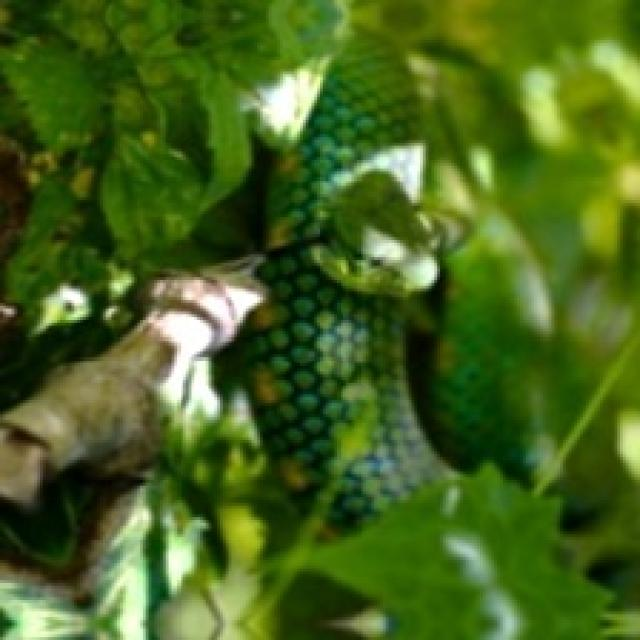philippine pitviper: (217, 0, 563, 523)
